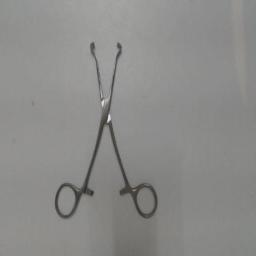Babcock Tissue Forceps: (50, 39, 162, 221)
